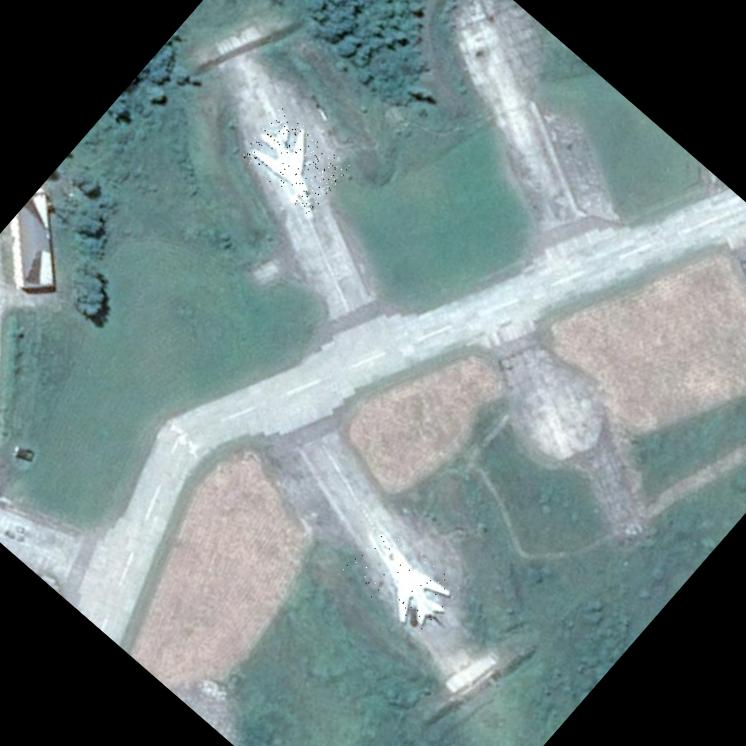A12: (341, 520, 463, 639), (238, 107, 350, 216)
